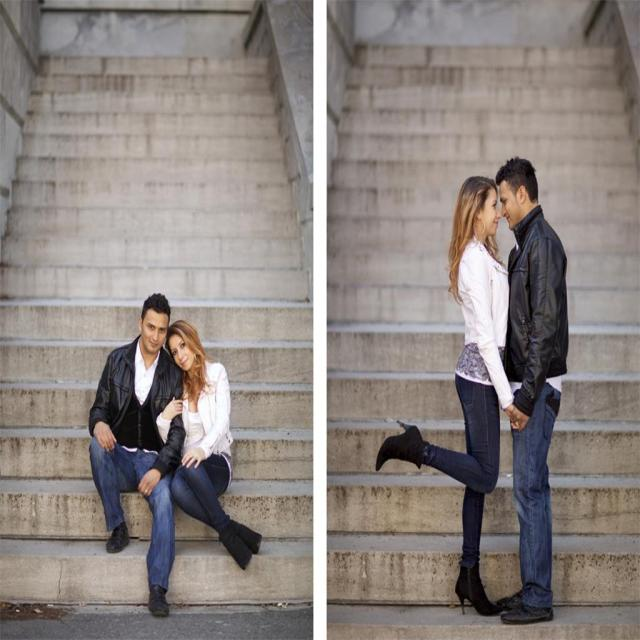nomask: (141, 306, 168, 352), (480, 184, 500, 234), (499, 180, 519, 230), (168, 333, 194, 370)
